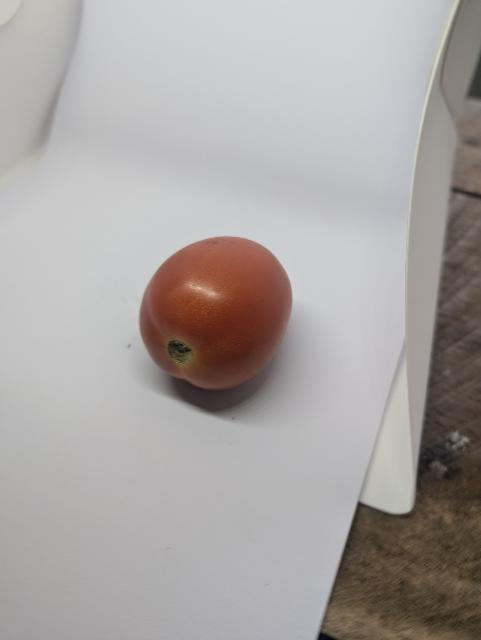red: (122, 227, 316, 405)
